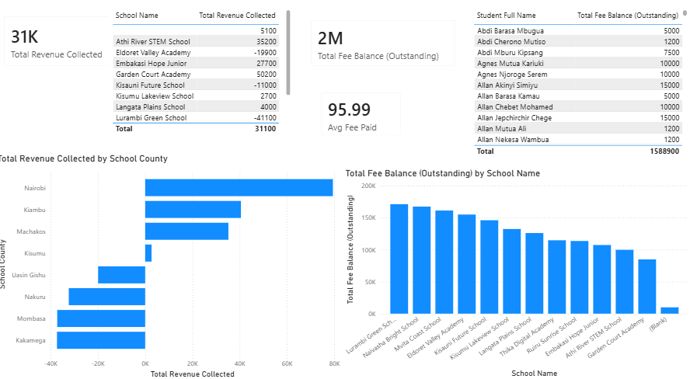

This screenshot's page, from the dashboard's own definition file:
{"tool":"powerbi","page":{"name":"Revenue & Financial Health","canvas":[1280,720],"ordinal":3},"visuals":[{"type":"cardVisual","fields":{"Data":["_Measures.Total Revenue Collected"]},"box":[0,15.5,234.5,125.9],"z":0},{"type":"tableEx","fields":{"Values":["DimSchool.School Name","_Measures.Total Revenue Collected"]},"box":[212.1,15.5,337.9,237.9],"z":1000},{"type":"clusteredBarChart","fields":{"Category":["DimLocation.School County"],"Y":["_Measures.Total Revenue Collected"]},"box":[0,284.5,639.7,419],"z":2000},{"type":"cardVisual","fields":{"Data":["_Measures.Total Fee Balance (Outstanding)"]},"box":[563.8,22.4,300,119],"z":3000},{"type":"tableEx","fields":{"Values":["DimStudent.Student Full Name","_Measures.Total Fee Balance (Outstanding)"]},"box":[875.9,15.5,403.4,279.3],"z":4000},{"type":"cardVisual","fields":{"Data":["_Measures.Avg Fee Paid"]},"box":[582.8,155.2,181,113.8],"z":5000},{"type":"clusteredColumnChart","fields":{"Category":["DimSchool.School Name"],"Y":["_Measures.Total Fee Balance (Outstanding)"]},"box":[639.7,312.1,639.7,391.4],"z":5001}]}

Visuals, with their boxes in screenshot pixels (x1, y1, x2, y2), scaled from the page's 1280x720 canvas onto the 690x379 screenshot:
cardVisual - _Measures.Total Revenue Collected: BBox(0, 8, 126, 74)
tableEx - DimSchool.School Name x _Measures.Total Revenue Collected: BBox(114, 8, 296, 133)
clusteredBarChart - DimLocation.School County x _Measures.Total Revenue Collected: BBox(0, 150, 345, 370)
cardVisual - _Measures.Total Fee Balance (Outstanding): BBox(304, 12, 466, 74)
tableEx - DimStudent.Student Full Name x _Measures.Total Fee Balance (Outstanding): BBox(472, 8, 689, 155)
cardVisual - _Measures.Avg Fee Paid: BBox(314, 82, 412, 142)
clusteredColumnChart - DimSchool.School Name x _Measures.Total Fee Balance (Outstanding): BBox(345, 164, 689, 370)
